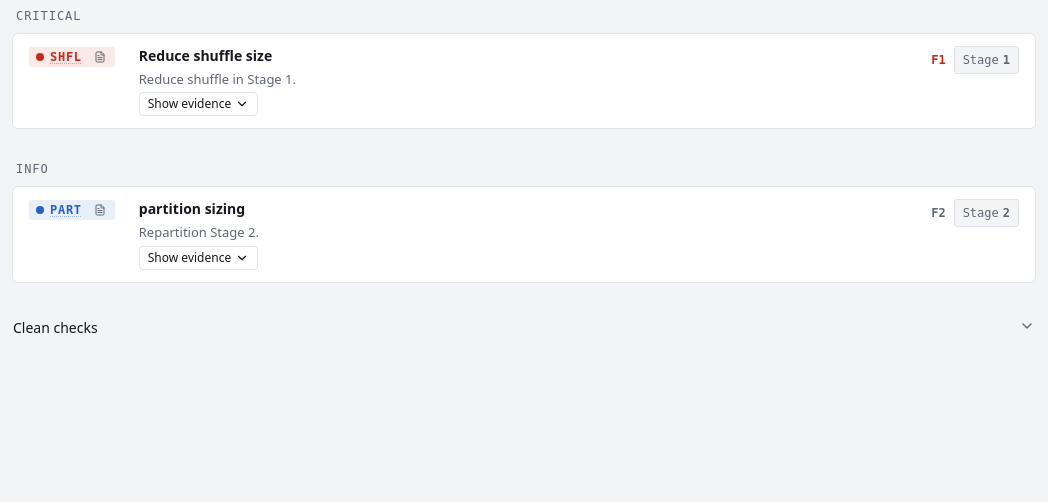
Scenario: ImpactBoard › keeps a row in its own impact band even when it shares a widget card with a worse-band finding of another type
The width and height of the screenshot is (1048, 502).
Expected: the text "Reduce shuffle in Stage 1." is shown, [139,70,296,88]
Click the button "Show evidence" below "Reduce shuffle in Stage 1." at point(198, 104), box [139,92,258,116]
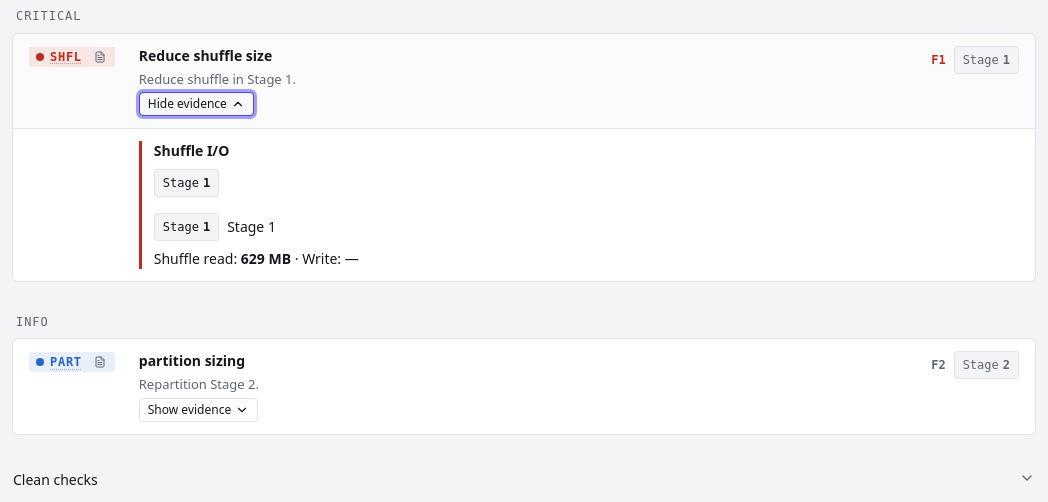
Expected: the text "Repartition Stage 2." is shown, [139,375,259,393]
Result: the number of headings "Shuffle I/O" is 1 at [154,141,229,161]
